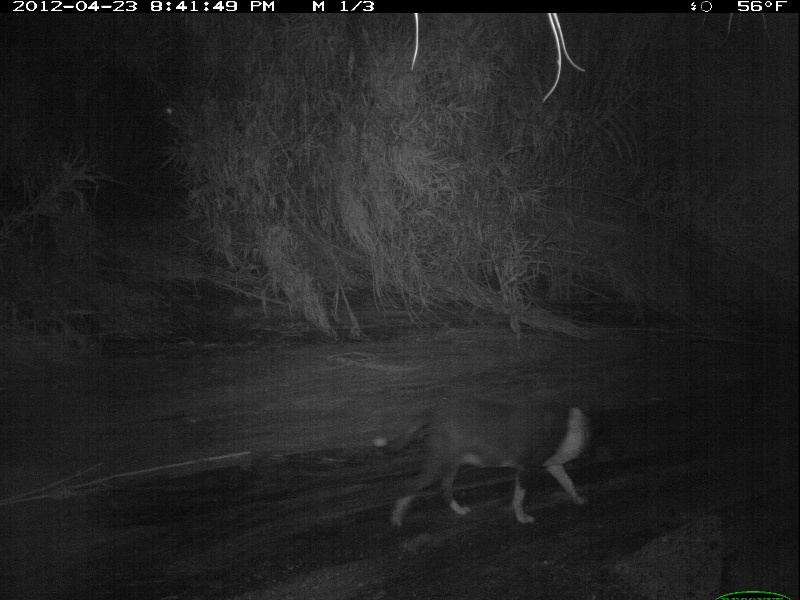dog: (371, 388, 616, 537)
